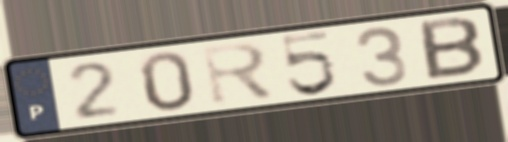0: (136, 47, 199, 115)
2: (66, 59, 125, 123)
3: (353, 24, 409, 88)
5: (278, 27, 341, 99)
B: (416, 14, 488, 83)
R: (198, 39, 279, 109)
